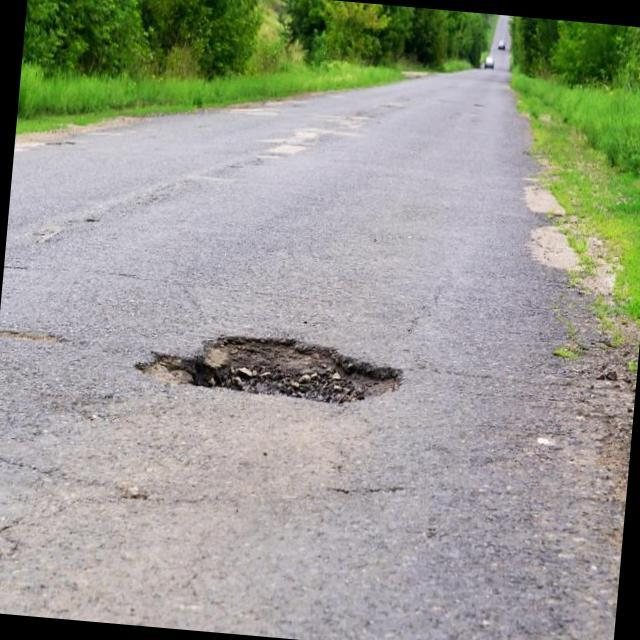Pothole: (139, 337, 399, 403)
